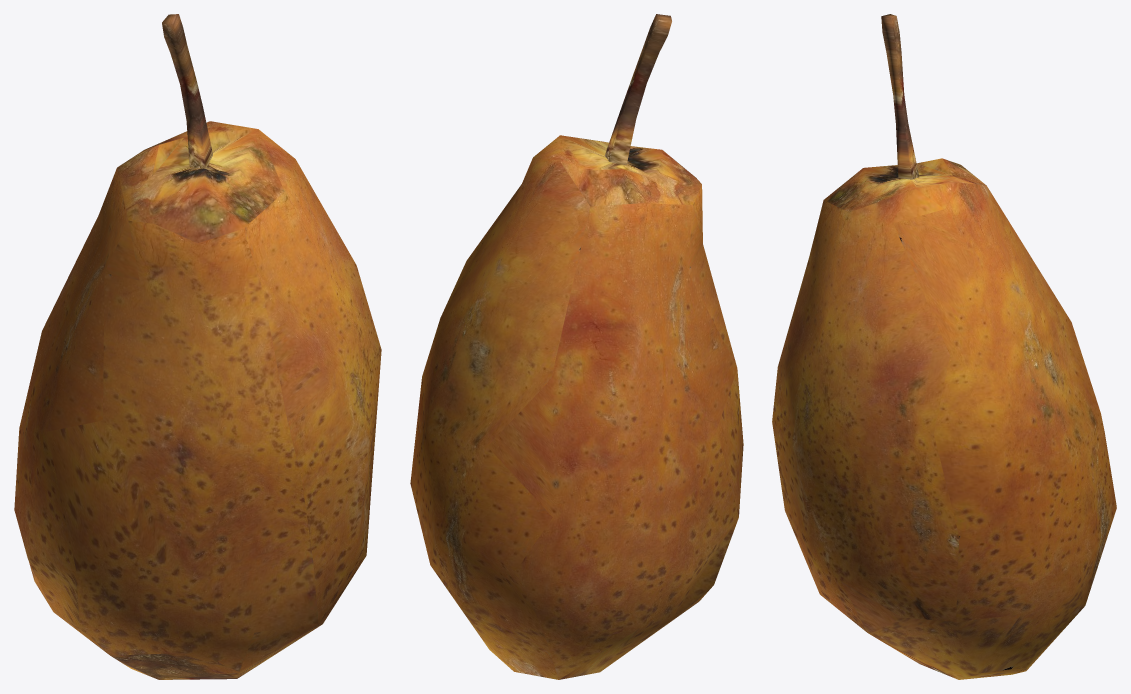
The picture shows the model from 3 angles, left to right: view 1: azimuth 30°, elevation 25°; view 2: azimuth 150°, elevation 25°; view 3: azimuth 270°, elevation 25°; orthographic projection. The views are drawn at different scales.
Parts seen in each view (by area): view 1: 41_papaya; view 2: 41_papaya; view 3: 41_papaya.
Part boxes in pixels (bbox=[...]): 41_papaya: bbox=[14, 14, 381, 679]; 41_papaya: bbox=[410, 14, 743, 679]; 41_papaya: bbox=[772, 14, 1116, 679].
Size of the model in its own units: 59.06 by 129 by 64.19.
